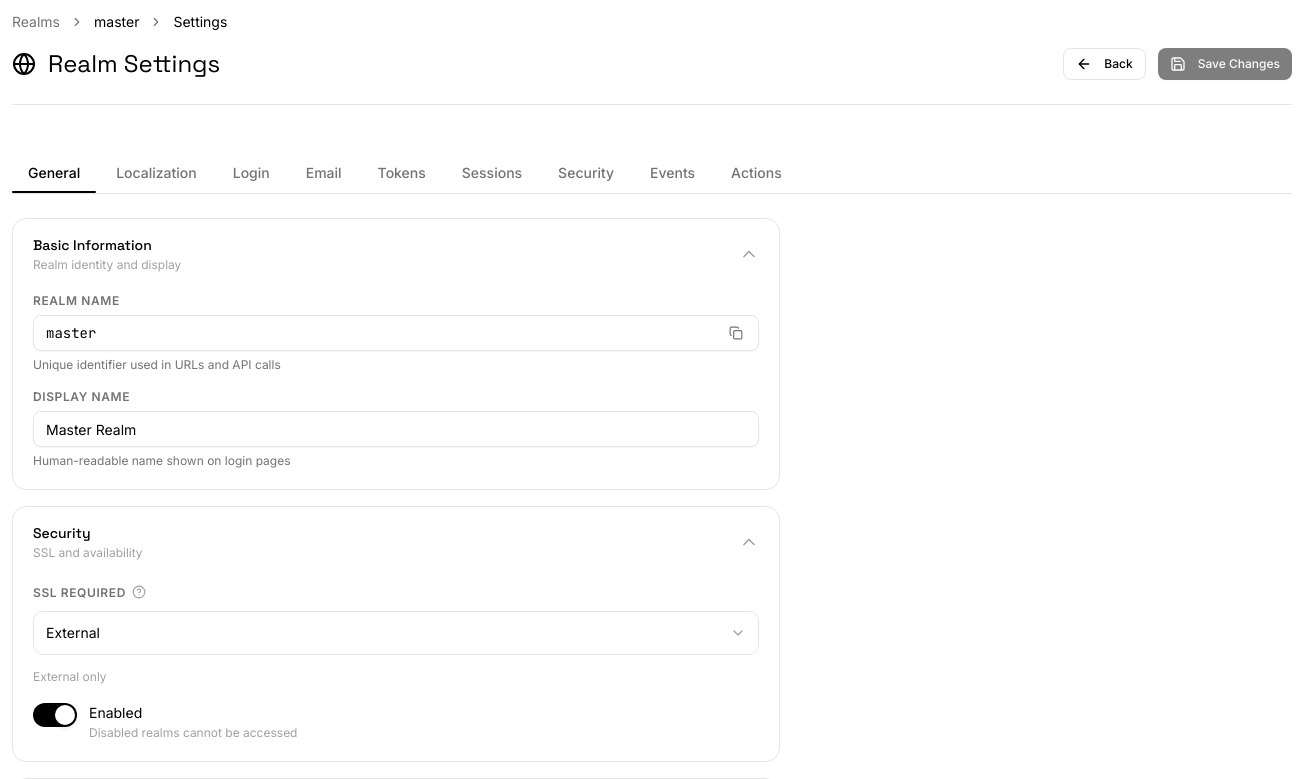
Test: RealmSettingsPage › switches to tokens tab
The image size is (1304, 779).
Click the button "Tokens" at [402, 173], box left=362, top=153, right=442, bottom=193
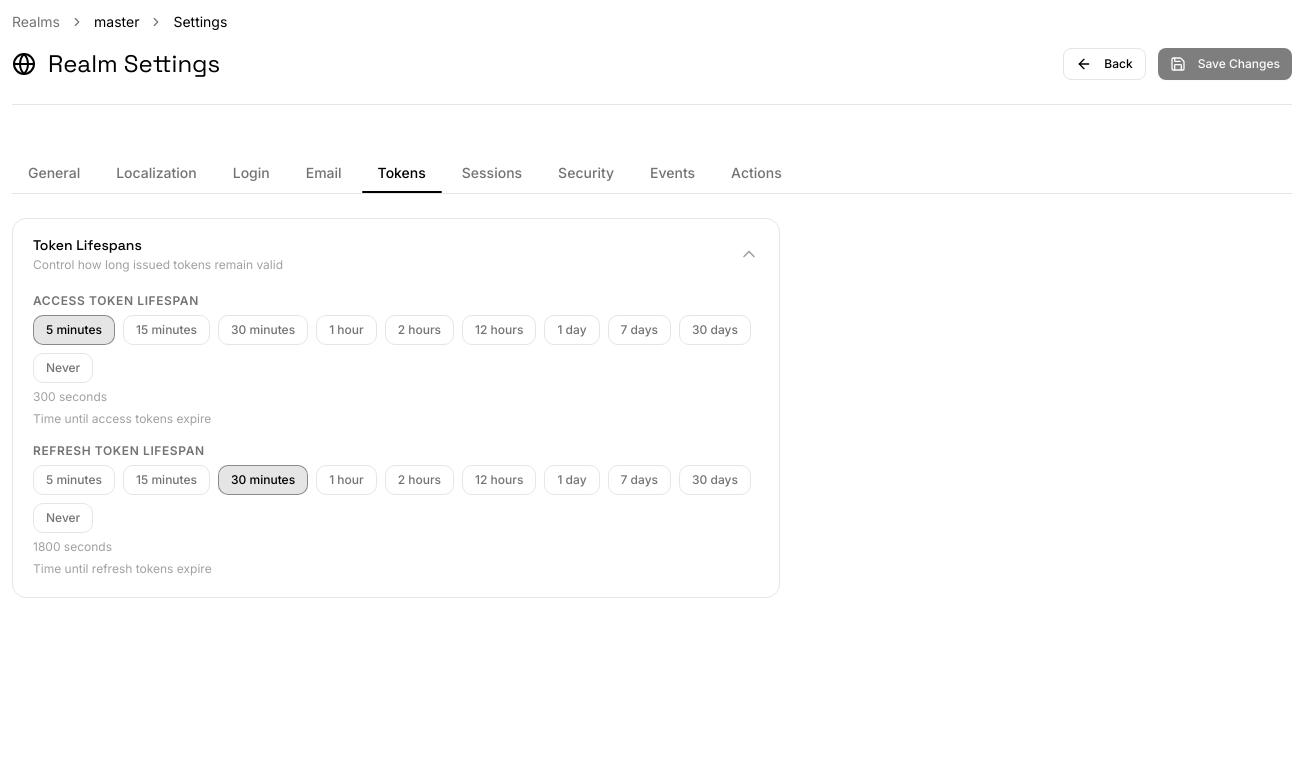
Check: the text "Token Lifespans" is shown, box left=33, top=235, right=142, bottom=255
